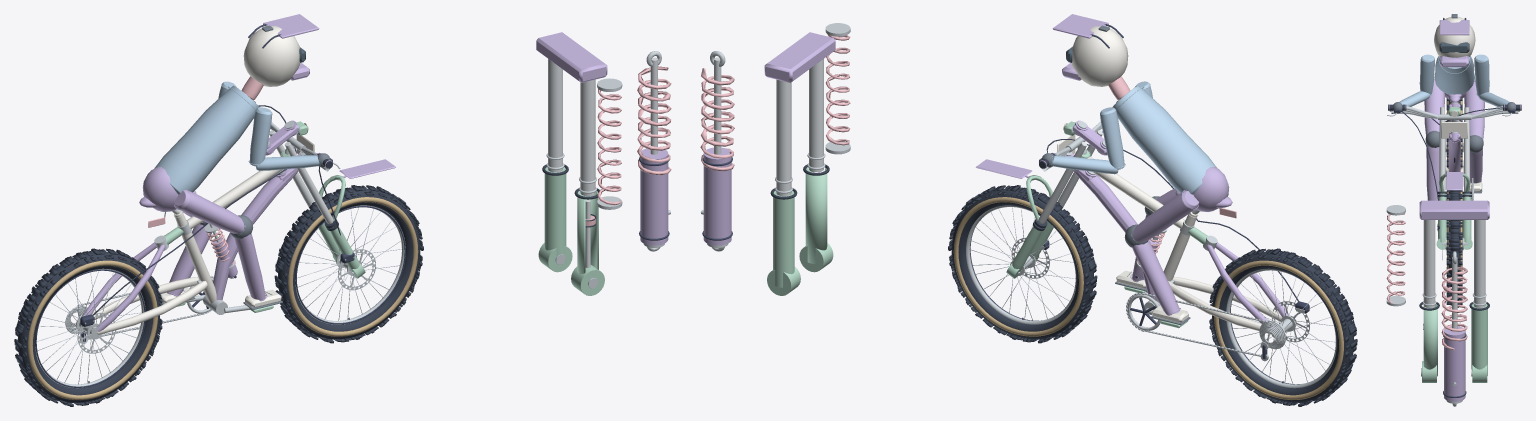
File: assembl-bike-atelier-web.glb
3 renders of one model, left to right at view 1: azimuth 30°, elevation 25°; view 2: azimuth 150°, elevation 25°; view 3: azimuth 270°, elevation 25°, orthographic. The views are drawn at different scales.
Visible parts, largest first — view 1: MESH_RIDER_TORSO_RIDER_POWDER_BLUE, MESH_WHEEL_FRONT_PIVOT_RUBBER, MESH_WHEEL_REAR_PIVOT_RUBBER, MESH_RIDER_HEAD_STRUCTURE_CREAM, MESH_DEMO_SHOCK_AIR_CAN_STRUCTURE_LILAC, MESH_DEMO_LOWER_L_STRUCTURE_MINT, MESH_WHEEL_FRONT_TYRE_DH_TAN_SIDEWALL, MESH_WHEEL_REAR_TYRE_DH_TAN_SIDEWALL, MESH_WHEEL_REAR_PIVOT_Bike_satin_metal, MESH_DEMO_CROWN_STRUCTURE_LILAC, MESH_WHEEL_FRONT_PIVOT_Bike_satin_metal, MESH_DEMO_LOWER_R_STRUCTURE_MINT (+30 smaller); view 2: MESH_RIDER_TORSO_RIDER_POWDER_BLUE, MESH_WHEEL_FRONT_PIVOT_RUBBER, MESH_WHEEL_REAR_PIVOT_RUBBER, MESH_RIDER_HEAD_STRUCTURE_CREAM, MESH_WHEEL_FRONT_PIVOT_Bike_satin_metal, MESH_DEMO_SHOCK_AIR_CAN_STRUCTURE_LILAC, MESH_WHEEL_REAR_PIVOT_Bike_satin_metal, MESH_DEMO_LOWER_R_STRUCTURE_MINT, MESH_DEMO_LOWER_L_STRUCTURE_MINT, MESH_WHEEL_FRONT_TYRE_DH_TAN_SIDEWALL, MESH_WHEEL_REAR_TYRE_DH_TAN_SIDEWALL, MESH_DEMO_CROWN_STRUCTURE_LILAC (+27 smaller); view 3: MESH_DEMO_SHOCK_AIR_CAN_STRUCTURE_LILAC, MESH_DEMO_CROWN_STRUCTURE_LILAC, MESH_DEMO_LOWER_L_STRUCTURE_MINT, MESH_DEMO_SHOCK_COIL_RIDER_BLUSH, MESH_DEMO_LOWER_R_STRUCTURE_MINT, MESH_DEMO_STANCHION_R_Bike_chrome, MESH_RIDER_TORSO_RIDER_POWDER_BLUE, MESH_DEMO_STANCHION_L_Bike_chrome, MESH_RIDER_HEAD_STRUCTURE_LILAC, MESH_DEMO_SPRING_RIDER_BLUSH, MESH_RIDER_HEAD_STRUCTURE_CREAM, MESH_RIDER_SHIN_L_STRUCTURE_LILAC (+30 smaller).
Part boxes in pixels (x1,y1,x2,y2): MESH_RIDER_TORSO_RIDER_POWDER_BLUE: [154, 85, 259, 194]; MESH_WHEEL_FRONT_PIVOT_RUBBER: [278, 188, 420, 339]; MESH_WHEEL_REAR_PIVOT_RUBBER: [17, 252, 159, 402]; MESH_RIDER_HEAD_STRUCTURE_CREAM: [243, 26, 299, 86]; MESH_DEMO_SHOCK_AIR_CAN_STRUCTURE_LILAC: [640, 148, 668, 245]; MESH_DEMO_LOWER_L_STRUCTURE_MINT: [538, 167, 572, 272]; MESH_WHEEL_FRONT_TYRE_DH_TAN_SIDEWALL: [288, 197, 418, 336]; MESH_WHEEL_REAR_TYRE_DH_TAN_SIDEWALL: [28, 260, 157, 399]; MESH_WHEEL_REAR_PIVOT_Bike_satin_metal: [35, 268, 145, 388]; MESH_DEMO_CROWN_STRUCTURE_LILAC: [536, 32, 607, 82]; MESH_WHEEL_FRONT_PIVOT_Bike_satin_metal: [295, 205, 405, 324]; MESH_DEMO_LOWER_R_STRUCTURE_MINT: [571, 191, 604, 295]; MESH_RIDER_TORSO_RIDER_POWDER_BLUE: [1112, 85, 1216, 194]; MESH_WHEEL_FRONT_PIVOT_RUBBER: [951, 188, 1093, 339]; MESH_WHEEL_REAR_PIVOT_RUBBER: [1212, 252, 1354, 402]; MESH_RIDER_HEAD_STRUCTURE_CREAM: [1072, 26, 1128, 86]; MESH_WHEEL_FRONT_PIVOT_Bike_satin_metal: [966, 205, 1076, 324]; MESH_DEMO_SHOCK_AIR_CAN_STRUCTURE_LILAC: [703, 147, 731, 245]; MESH_WHEEL_REAR_PIVOT_Bike_satin_metal: [1226, 268, 1336, 388]; MESH_DEMO_LOWER_R_STRUCTURE_MINT: [799, 167, 833, 272]; MESH_DEMO_LOWER_L_STRUCTURE_MINT: [767, 191, 800, 295]; MESH_WHEEL_FRONT_TYRE_DH_TAN_SIDEWALL: [953, 197, 1083, 336]; MESH_WHEEL_REAR_TYRE_DH_TAN_SIDEWALL: [1214, 260, 1343, 399]; MESH_DEMO_CROWN_STRUCTURE_LILAC: [764, 32, 835, 82]; MESH_DEMO_SHOCK_AIR_CAN_STRUCTURE_LILAC: [1444, 326, 1465, 401]; MESH_DEMO_CROWN_STRUCTURE_LILAC: [1419, 200, 1489, 219]; MESH_DEMO_LOWER_L_STRUCTURE_MINT: [1471, 304, 1487, 382]; MESH_DEMO_SHOCK_COIL_RIDER_BLUSH: [1441, 267, 1467, 350]; MESH_DEMO_LOWER_R_STRUCTURE_MINT: [1422, 304, 1437, 382]; MESH_DEMO_STANCHION_R_Bike_chrome: [1423, 220, 1435, 307]; MESH_RIDER_TORSO_RIDER_POWDER_BLUE: [1434, 56, 1474, 94]; MESH_DEMO_STANCHION_L_Bike_chrome: [1474, 220, 1485, 307]; MESH_RIDER_HEAD_STRUCTURE_LILAC: [1439, 20, 1469, 67]; MESH_DEMO_SPRING_RIDER_BLUSH: [1386, 213, 1405, 303]; MESH_RIDER_HEAD_STRUCTURE_CREAM: [1434, 16, 1475, 57]; MESH_RIDER_SHIN_L_STRUCTURE_LILAC: [1426, 144, 1439, 200].
Size of the model in its own units: 3.48 by 1.69 by 0.8083.
